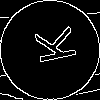K: (25, 25, 77, 68)
